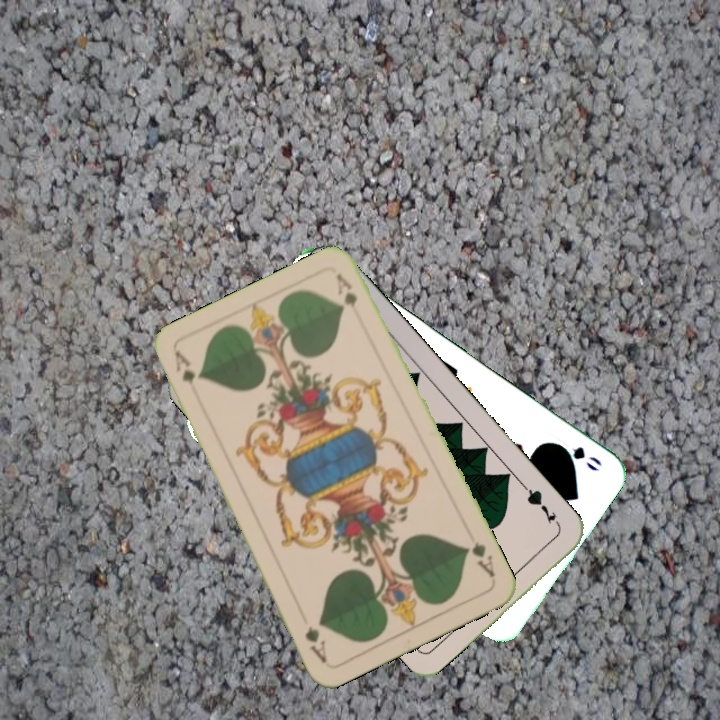G7: (519, 482, 563, 531)
GA: (170, 347, 203, 402), (461, 538, 498, 580)
GO: (549, 438, 605, 474)
